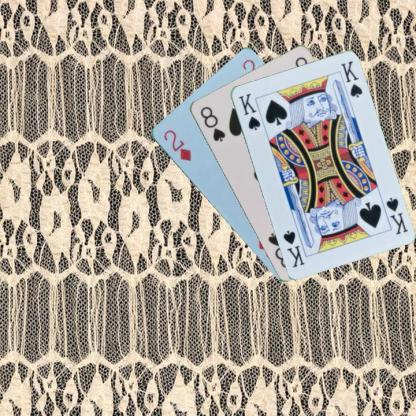2d: (160, 127, 192, 163)
8s: (197, 103, 227, 143)
Ks: (236, 90, 262, 132), (383, 195, 409, 236)
